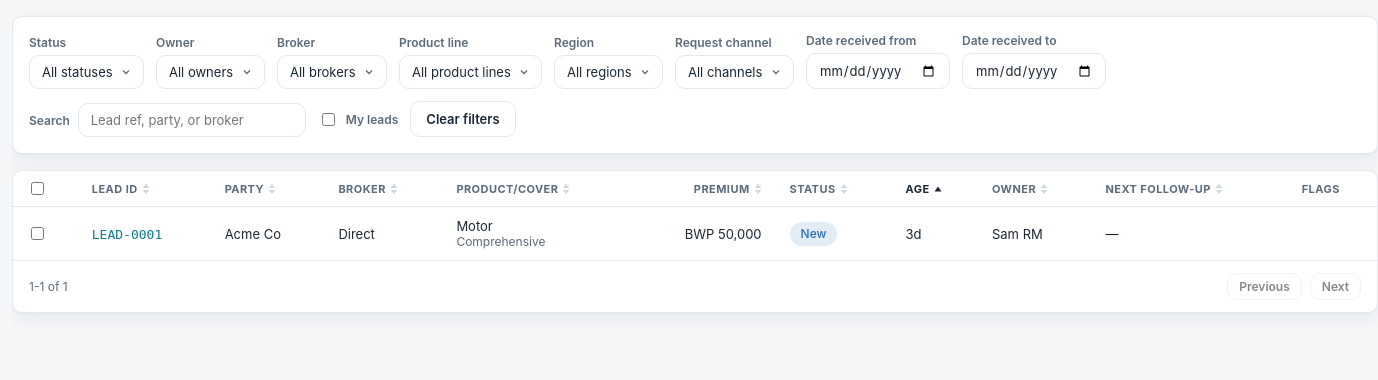
Scenario: LeadsListPage › render_WhenUserHasReassignPermission_ShouldShowCheckboxesAndBulkReassignButtonOnSelection
The image size is (1378, 380).
Check: the table with test id "leads-table" is shown, box top-left (13, 171), bottom-right (1377, 260)
Click the checkbox named "Select lead LEAD-0001" at (38, 234), box top-left (31, 227), bottom-right (44, 240)
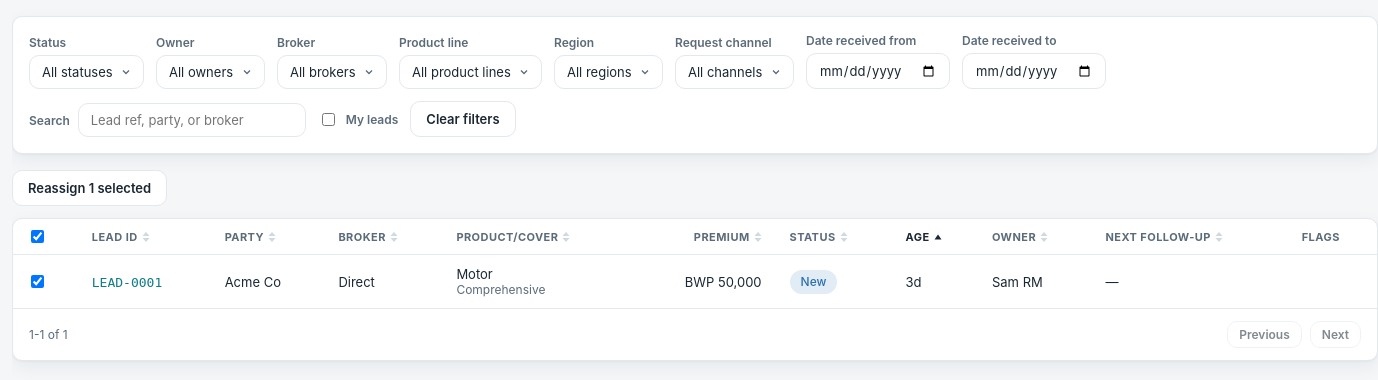
Check: the button with test id "bulk-reassign-button" is shown, box top-left (12, 170), bottom-right (167, 206)
